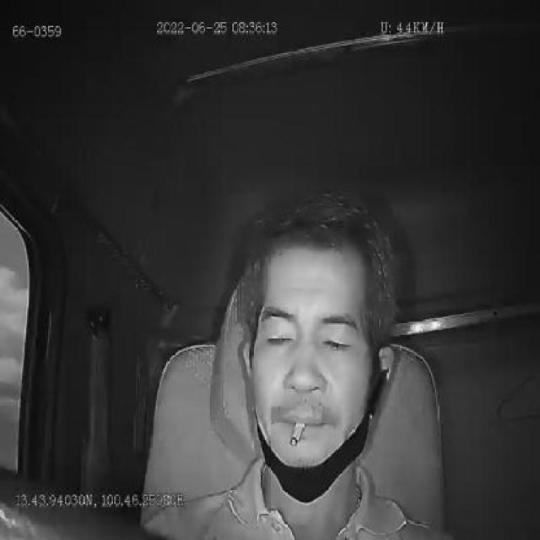smoking: (288, 422, 305, 448)
